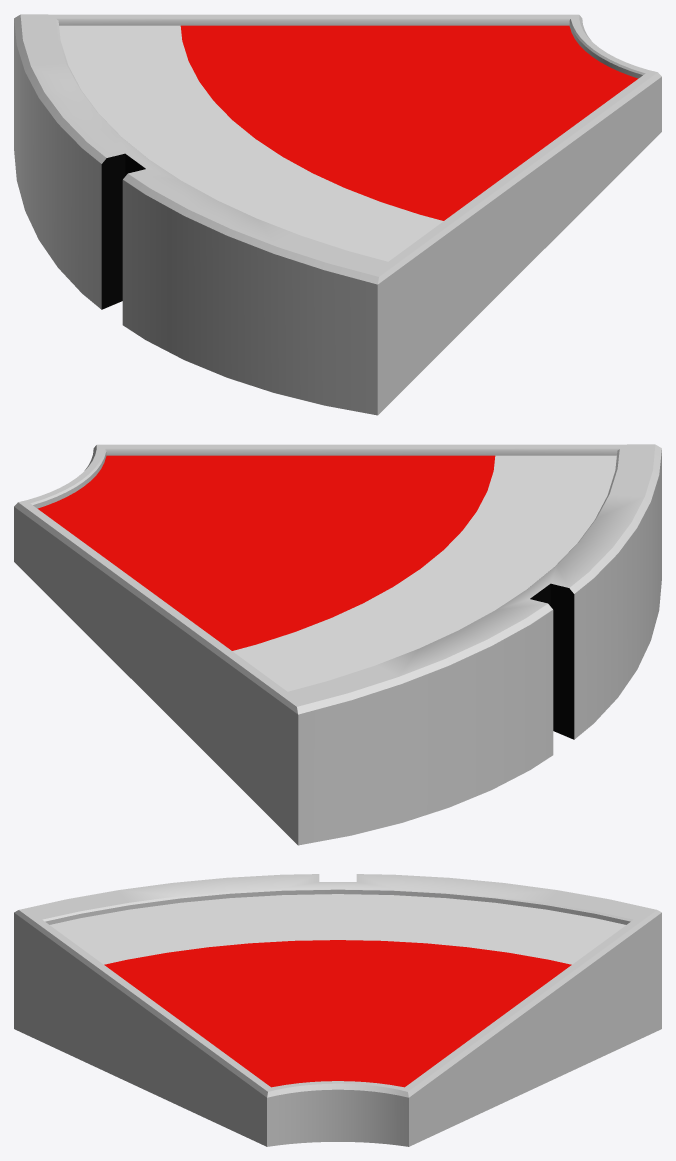
The model's file is piezaNOTOC_Game.fbx.
3 views of the same model, one above another, from view 1: azimuth 30°, elevation 25°; view 2: azimuth 150°, elevation 25°; view 3: azimuth 270°, elevation 25° (orthographic). The views are drawn at different scales.
Visible parts, largest first — view 1: piezaModificada_low.001, piezaModificada_low.000; view 2: piezaModificada_low.001, piezaModificada_low.000; view 3: piezaModificada_low.001, piezaModificada_low.000.
Part boxes in pixels (x1=…): piezaModificada_low.001: x1=14, y1=14, x2=661, y2=415; piezaModificada_low.000: x1=59, y1=25, x2=443, y2=261; piezaModificada_low.001: x1=14, y1=444, x2=661, y2=845; piezaModificada_low.000: x1=232, y1=455, x2=616, y2=691; piezaModificada_low.001: x1=14, y1=874, x2=661, y2=1146; piezaModificada_low.000: x1=50, y1=894, x2=625, y2=964.
Size of the model in its own units: 75.14 by 21.2 by 92.87.
